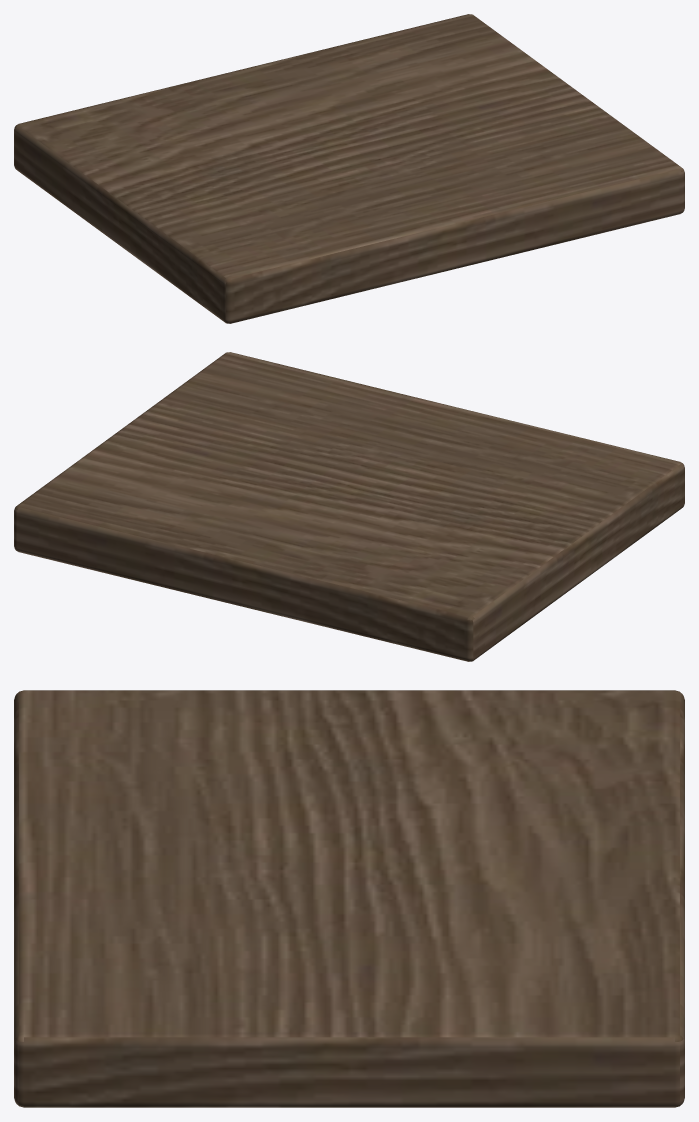
Rendered from bench.glb.
The picture shows the model from 3 angles, top to bottom: view 1: azimuth 30°, elevation 25°; view 2: azimuth 150°, elevation 25°; view 3: azimuth 270°, elevation 25°; orthographic projection. The views are drawn at different scales.
Parts seen in each view (by area): view 1: desk; view 2: desk; view 3: desk.
Part boxes in pixels (x1=…): desk: x1=14, y1=14, x2=684, y2=323; desk: x1=14, y1=352, x2=684, y2=661; desk: x1=14, y1=690, x2=684, y2=1107.
Size of the model in its own units: 186 by 17.99 by 150.
1 material, 1 textured.
